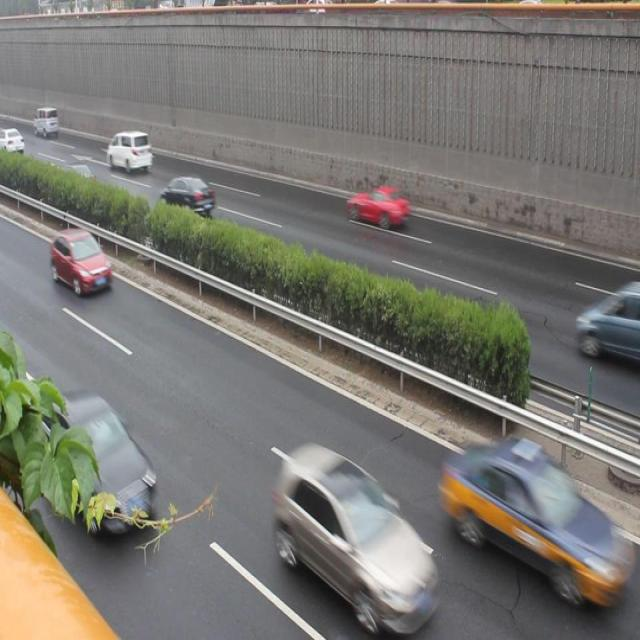car: (276, 437, 442, 623), (446, 431, 606, 591), (44, 385, 160, 534), (572, 282, 640, 371), (49, 222, 114, 303), (343, 179, 412, 235), (162, 169, 217, 219)
